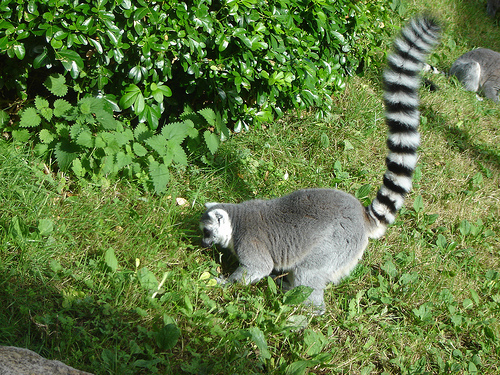cat: (200, 11, 443, 313)
